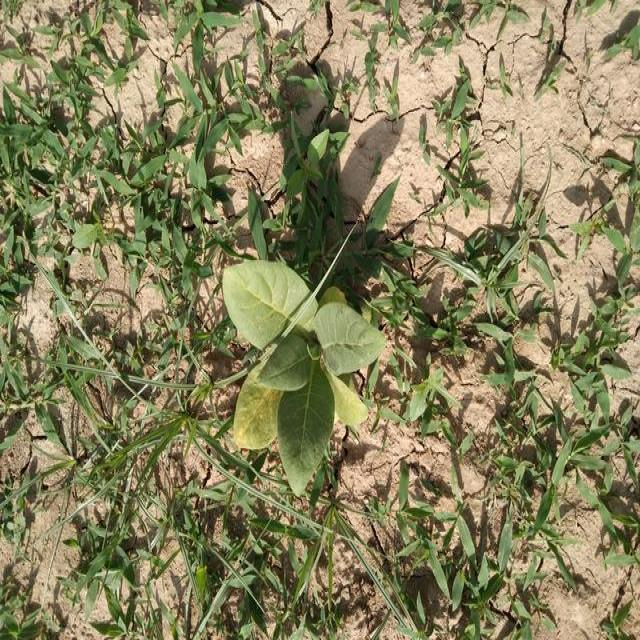crop: (218, 249, 392, 495)
